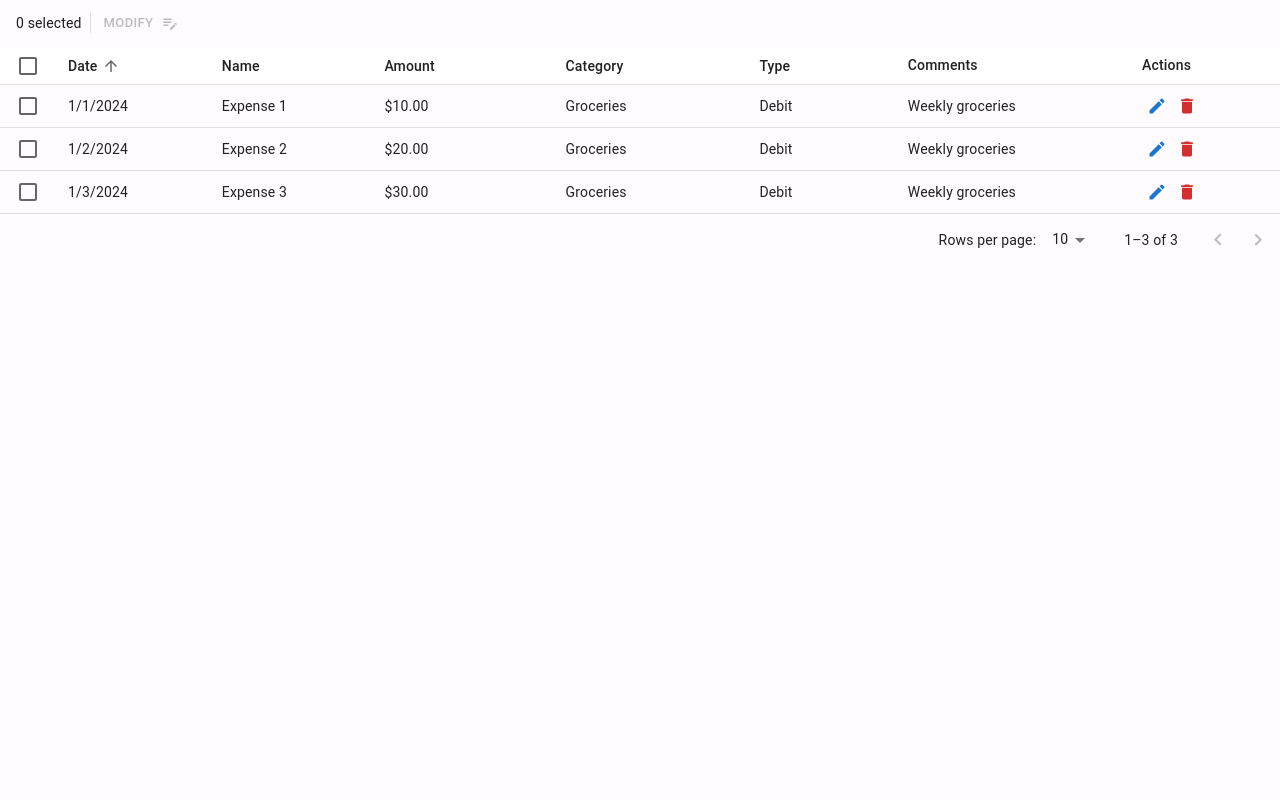
ImportReviewTable › bulk edit › should open bulk edit dialog for category when Edit Category is clicked
Click the checkbox named "Select Expense 1": click(28, 106) [16, 94, 40, 118]
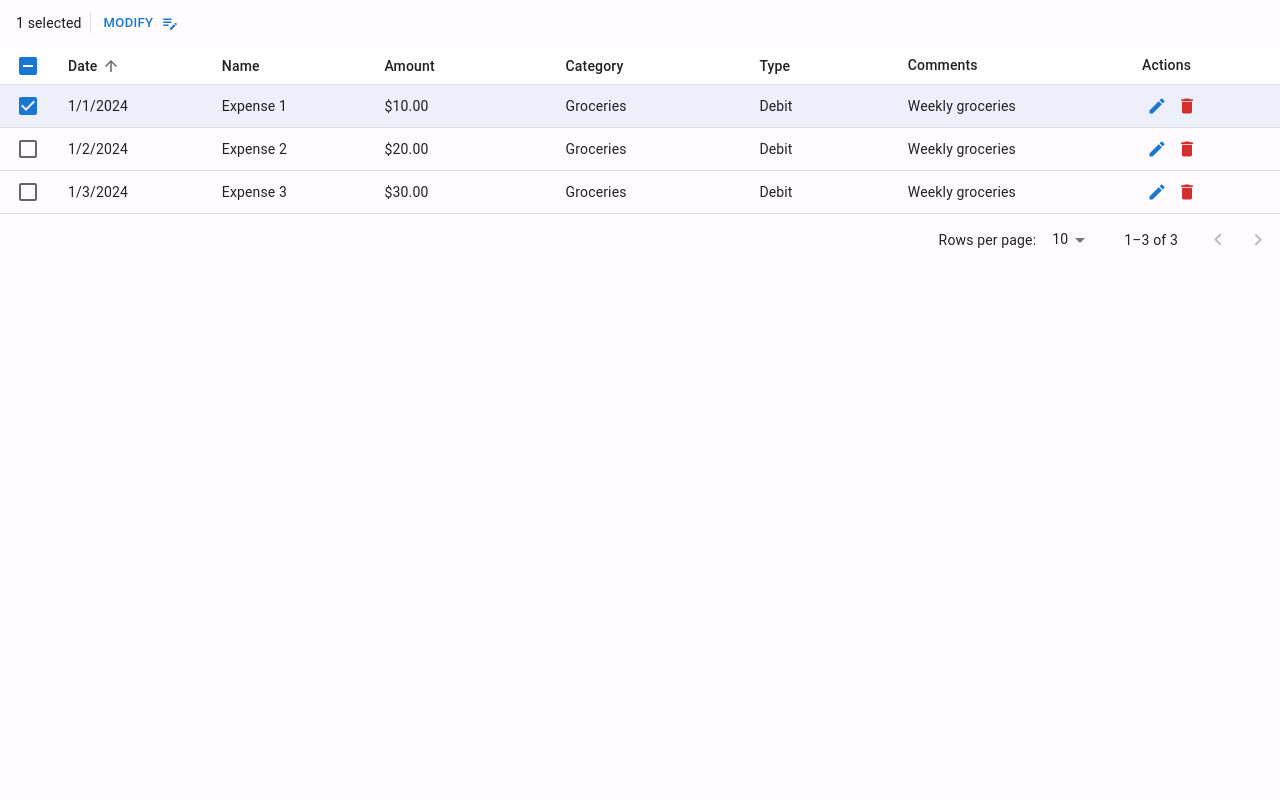
Click the button "Modify": click(140, 23) [99, 8, 182, 39]
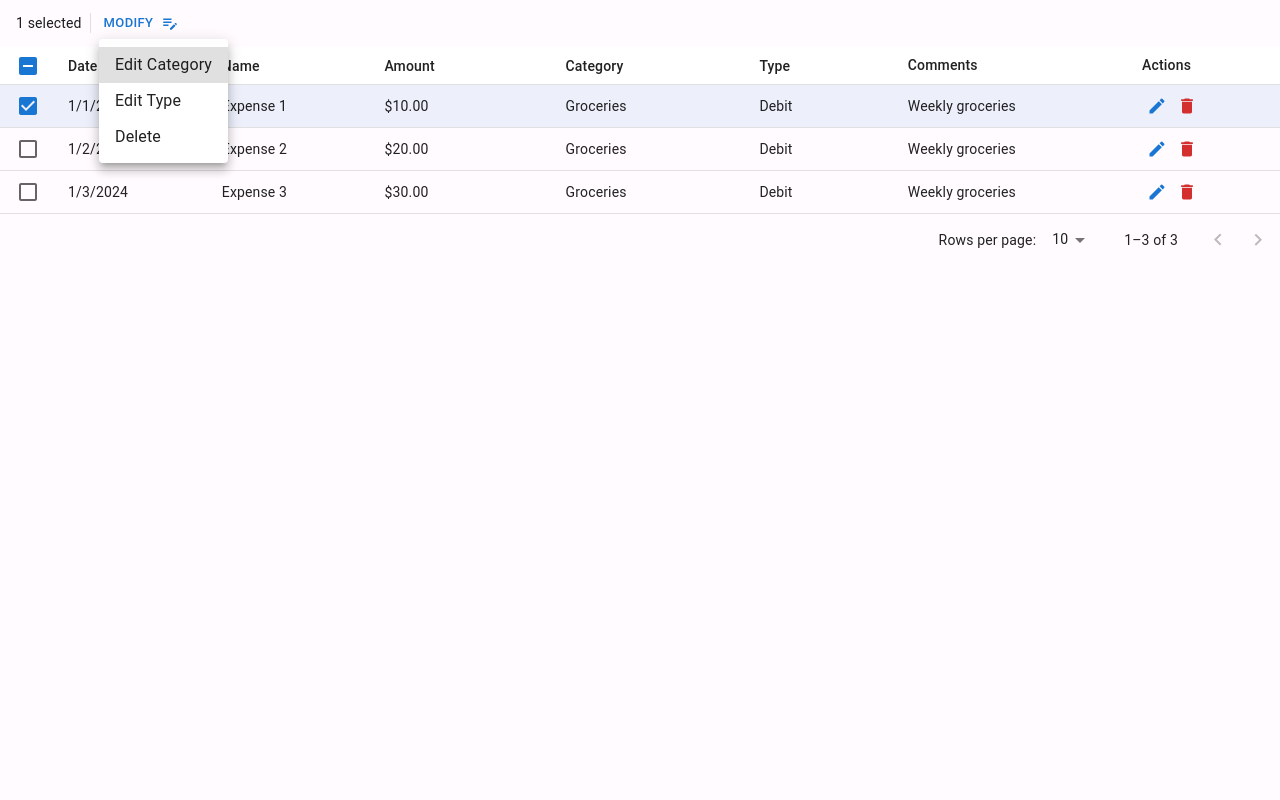
Click the menu item "Edit Category": click(164, 65) [99, 47, 228, 83]
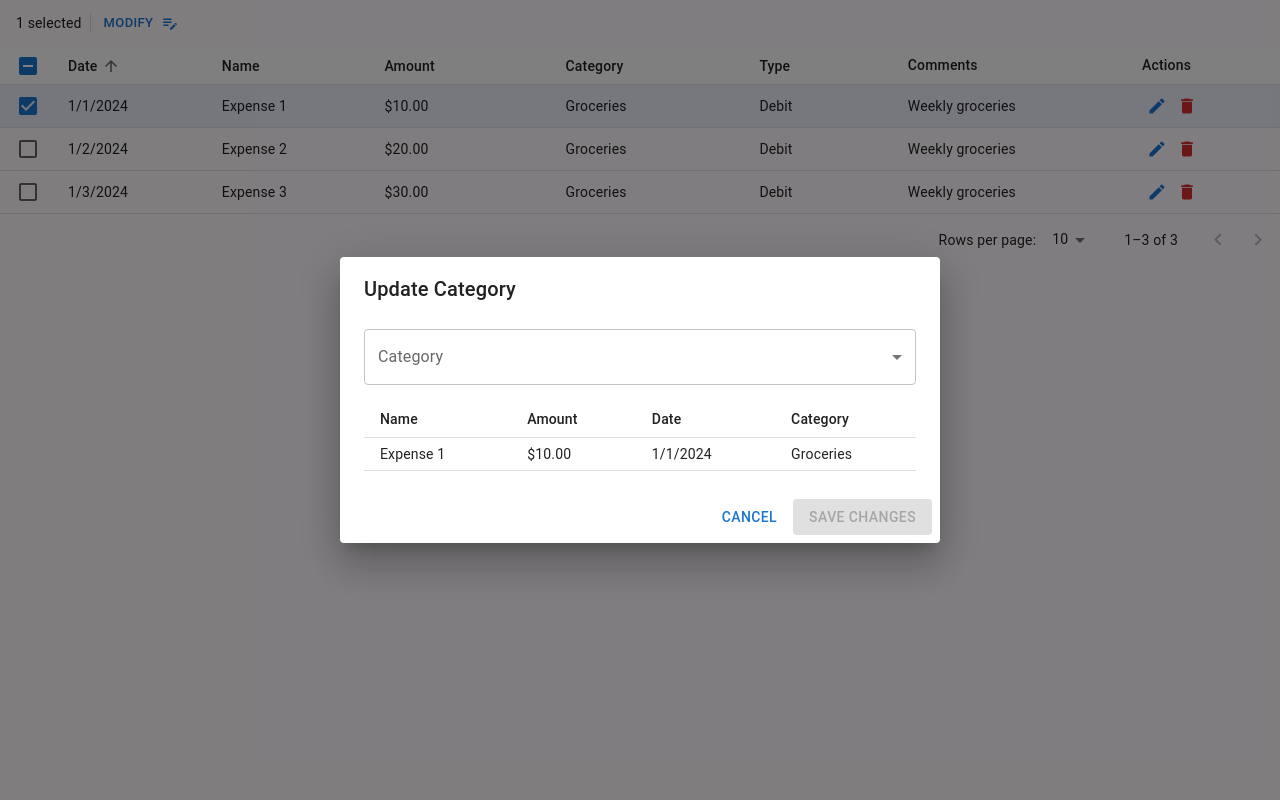
Check: the heading "Update Category" is shown, box [364, 277, 516, 301]
